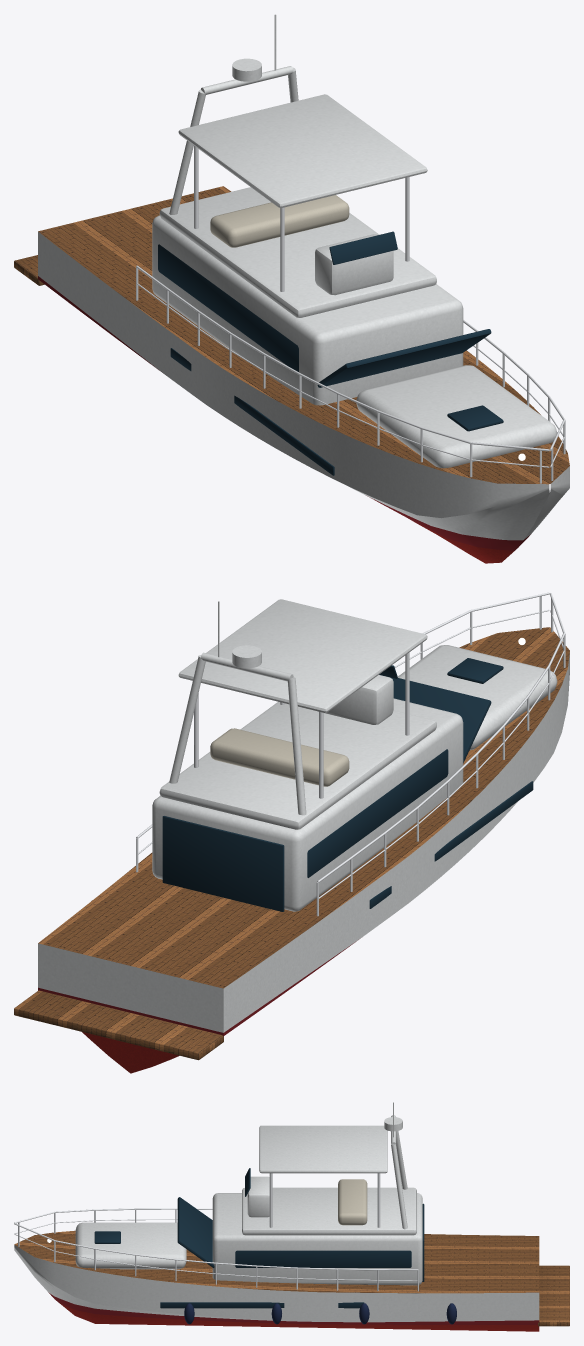
File: yacht-2.glb
3 views of the same model, one above another, from view 1: azimuth 30°, elevation 25°; view 2: azimuth 150°, elevation 25°; view 3: azimuth 270°, elevation 25° (orthographic). The views are drawn at different scales.
Visible parts, largest first — view 1: yacht-2; view 2: yacht-2; view 3: yacht-2.
Boxes of the visible parts, box(x1,y1,x2,y2) form: yacht-2: box(14, 14, 569, 563); yacht-2: box(14, 592, 569, 1073); yacht-2: box(14, 1102, 569, 1331).
Size of the model in its own units: 5.29 by 9 by 19.07.
9 materials, 4 textured.
